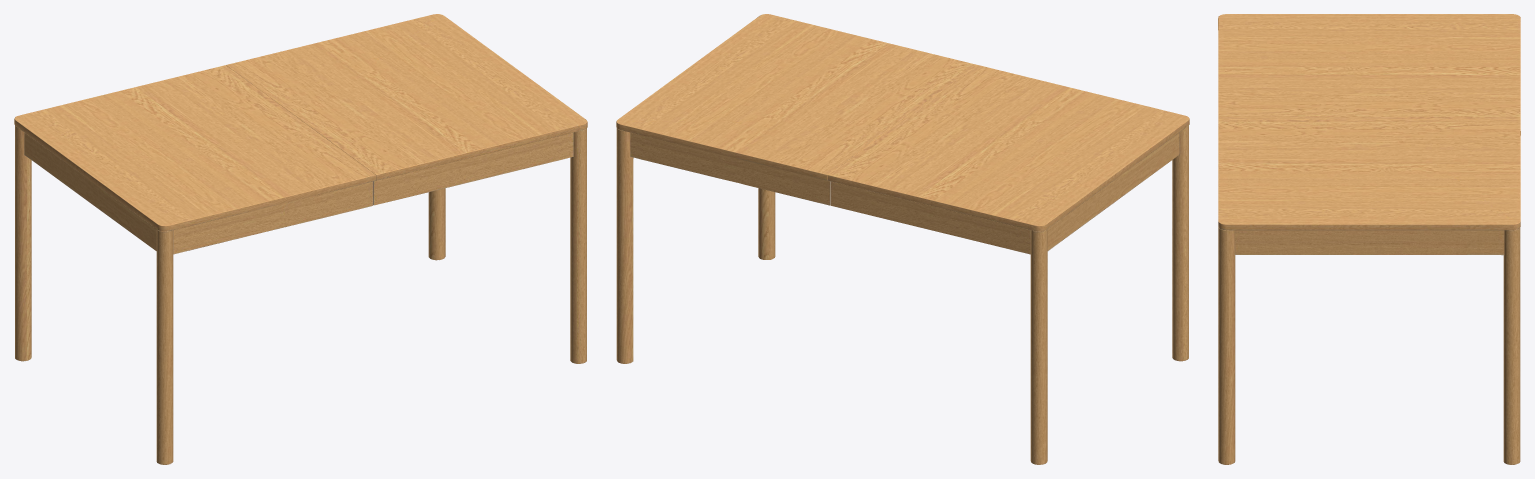
Rendered from tonstad_sto_rozkadany_40593882.glb.
The picture shows the model from 3 angles, left to right: view 1: azimuth 30°, elevation 25°; view 2: azimuth 150°, elevation 25°; view 3: azimuth 270°, elevation 25°; orthographic projection.
Parts seen in each view (by area): view 1: tonstad_sto_rozkadany_40593882; view 2: tonstad_sto_rozkadany_40593882; view 3: tonstad_sto_rozkadany_40593882.
Part boxes in pixels (bbox=[...]): tonstad_sto_rozkadany_40593882: bbox=[14, 14, 587, 464]; tonstad_sto_rozkadany_40593882: bbox=[616, 14, 1189, 464]; tonstad_sto_rozkadany_40593882: bbox=[1218, 14, 1520, 464].
Bounding box in the file's own units: 1.4 × 0.7496 × 0.8504.
4 materials, 4 textured.
